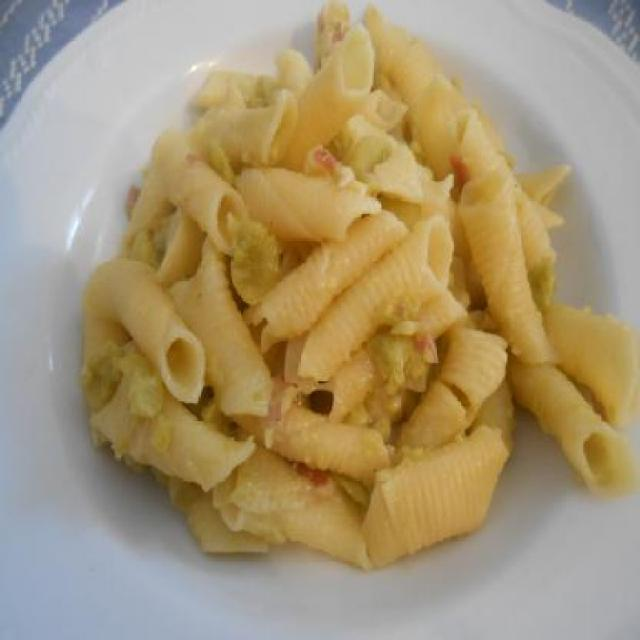Oil pasta: (94, 16, 640, 602)
